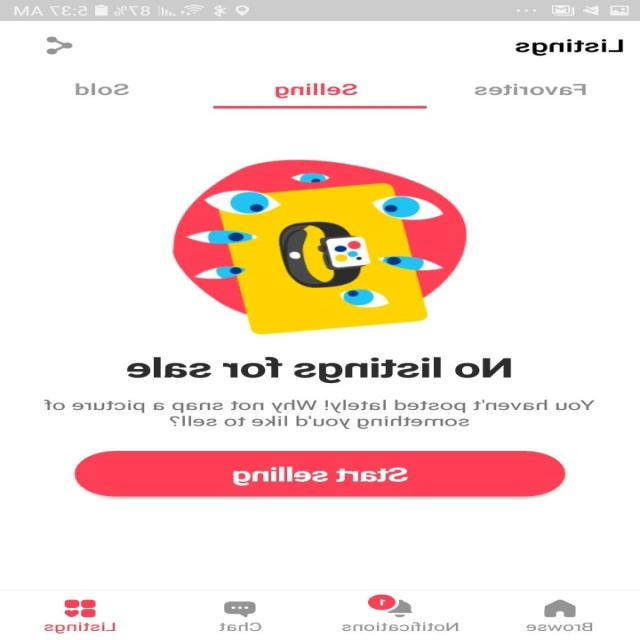Icon: (368, 594, 414, 617), (65, 598, 98, 618), (544, 598, 577, 617), (224, 601, 257, 618), (46, 36, 74, 55)
Image: (173, 160, 468, 334)
Text: (43, 399, 596, 429), (127, 356, 512, 384), (516, 38, 624, 56), (474, 82, 586, 96), (276, 82, 360, 99), (342, 621, 460, 631), (44, 621, 118, 634), (76, 82, 130, 96), (525, 621, 593, 631), (220, 621, 264, 631)
TextButton: (74, 451, 566, 497)
